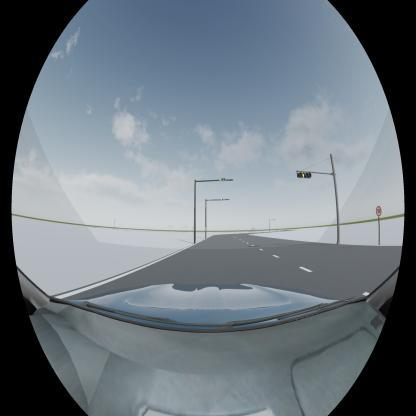Green Light: (219, 177, 226, 182), (220, 198, 226, 201)
